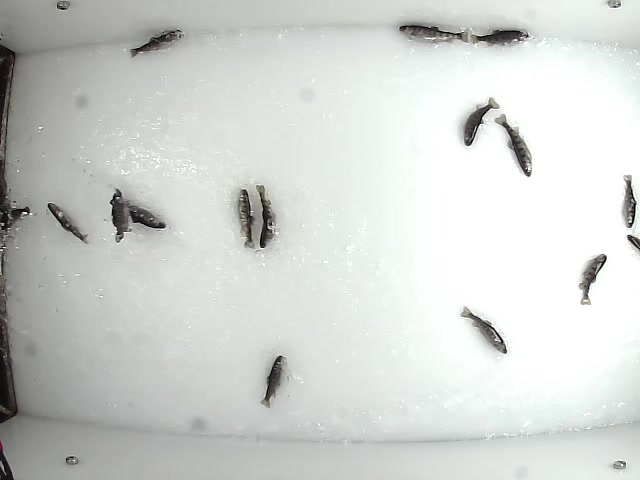fish: (492, 111, 533, 179), (460, 307, 508, 354), (462, 96, 502, 147), (47, 201, 90, 247), (128, 26, 185, 60), (576, 250, 608, 306), (116, 198, 169, 230), (258, 352, 286, 409), (397, 23, 471, 44), (254, 182, 277, 249), (234, 186, 256, 248), (468, 27, 530, 49), (618, 172, 637, 230), (109, 187, 128, 244)
